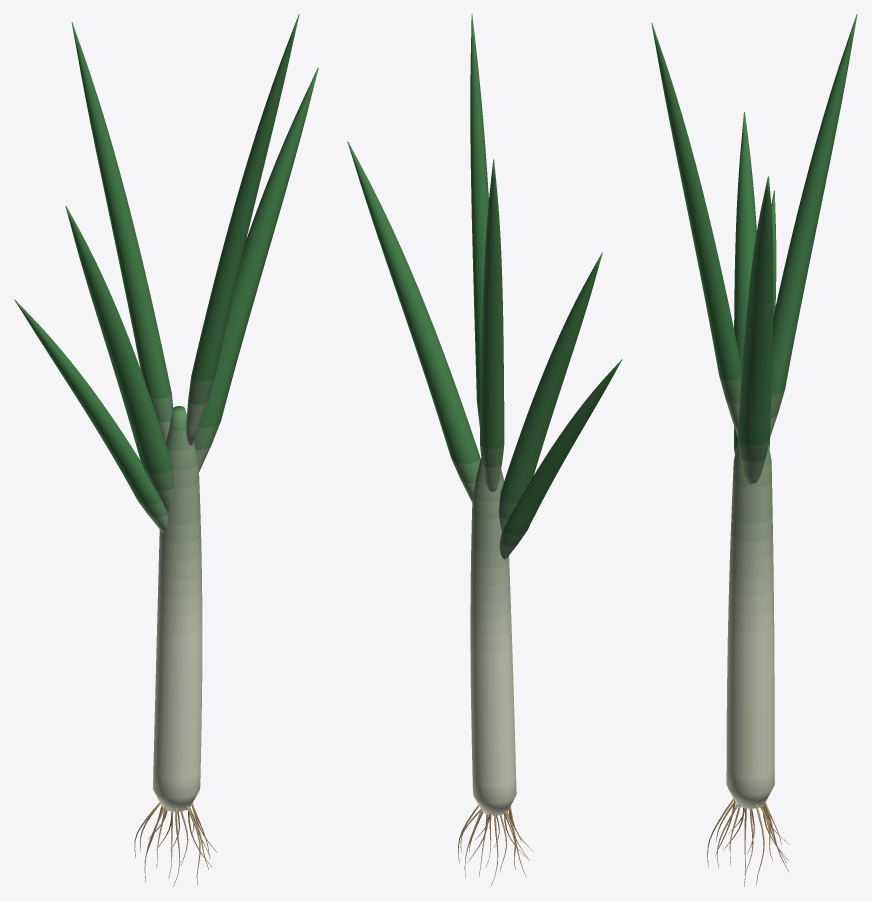
3 renders of one model, left to right at view 1: azimuth 30°, elevation 25°; view 2: azimuth 150°, elevation 25°; view 3: azimuth 270°, elevation 25°, orthographic. The views are drawn at different scales.
Parts seen in each view (by area): view 1: Long white sheathed stalk and basal plate, Attached hollow tubular leaf 03, Attached hollow tubular leaf 04, Attached hollow tubular leaf 02, Attached hollow tubular leaf 01, Attached hollow tubular leaf 05; view 2: Long white sheathed stalk and basal plate, Attached hollow tubular leaf 02, Attached hollow tubular leaf 03, Attached hollow tubular leaf 01, Attached hollow tubular leaf 04, Attached hollow tubular leaf 05; view 3: Long white sheathed stalk and basal plate, Attached hollow tubular leaf 02, Attached hollow tubular leaf 03, Attached hollow tubular leaf 04, Attached hollow tubular leaf 01, Attached hollow tubular leaf 05.
Part boxes in pixels (x1,y1,x2,y2): Long white sheathed stalk and basal plate: (153, 406, 202, 811); Attached hollow tubular leaf 03: (71, 22, 173, 442); Attached hollow tubular leaf 04: (186, 14, 299, 445); Attached hollow tubular leaf 02: (194, 67, 318, 471); Attached hollow tubular leaf 01: (65, 206, 173, 511); Attached hollow tubular leaf 05: (14, 299, 167, 532); Long white sheathed stalk and basal plate: (470, 458, 516, 815); Attached hollow tubular leaf 02: (347, 141, 480, 502); Attached hollow tubular leaf 03: (480, 159, 504, 491); Attached hollow tubular leaf 01: (499, 252, 602, 531); Attached hollow tubular leaf 04: (470, 14, 488, 426); Attached hollow tubular leaf 05: (499, 359, 622, 559); Long white sheathed stalk and basal plate: (726, 442, 774, 808); Attached hollow tubular leaf 02: (737, 176, 773, 483); Attached hollow tubular leaf 03: (770, 14, 857, 436); Attached hollow tubular leaf 04: (651, 23, 741, 436); Attached hollow tubular leaf 01: (734, 112, 756, 453); Attached hollow tubular leaf 05: (768, 190, 776, 448).
Size of the model in its own units: 0.2476 by 0.6879 by 0.1454.
